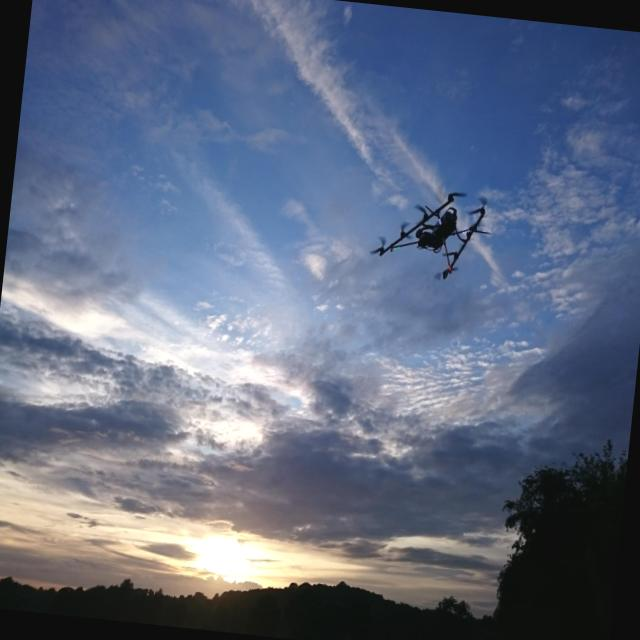drone: (365, 180, 496, 290)
